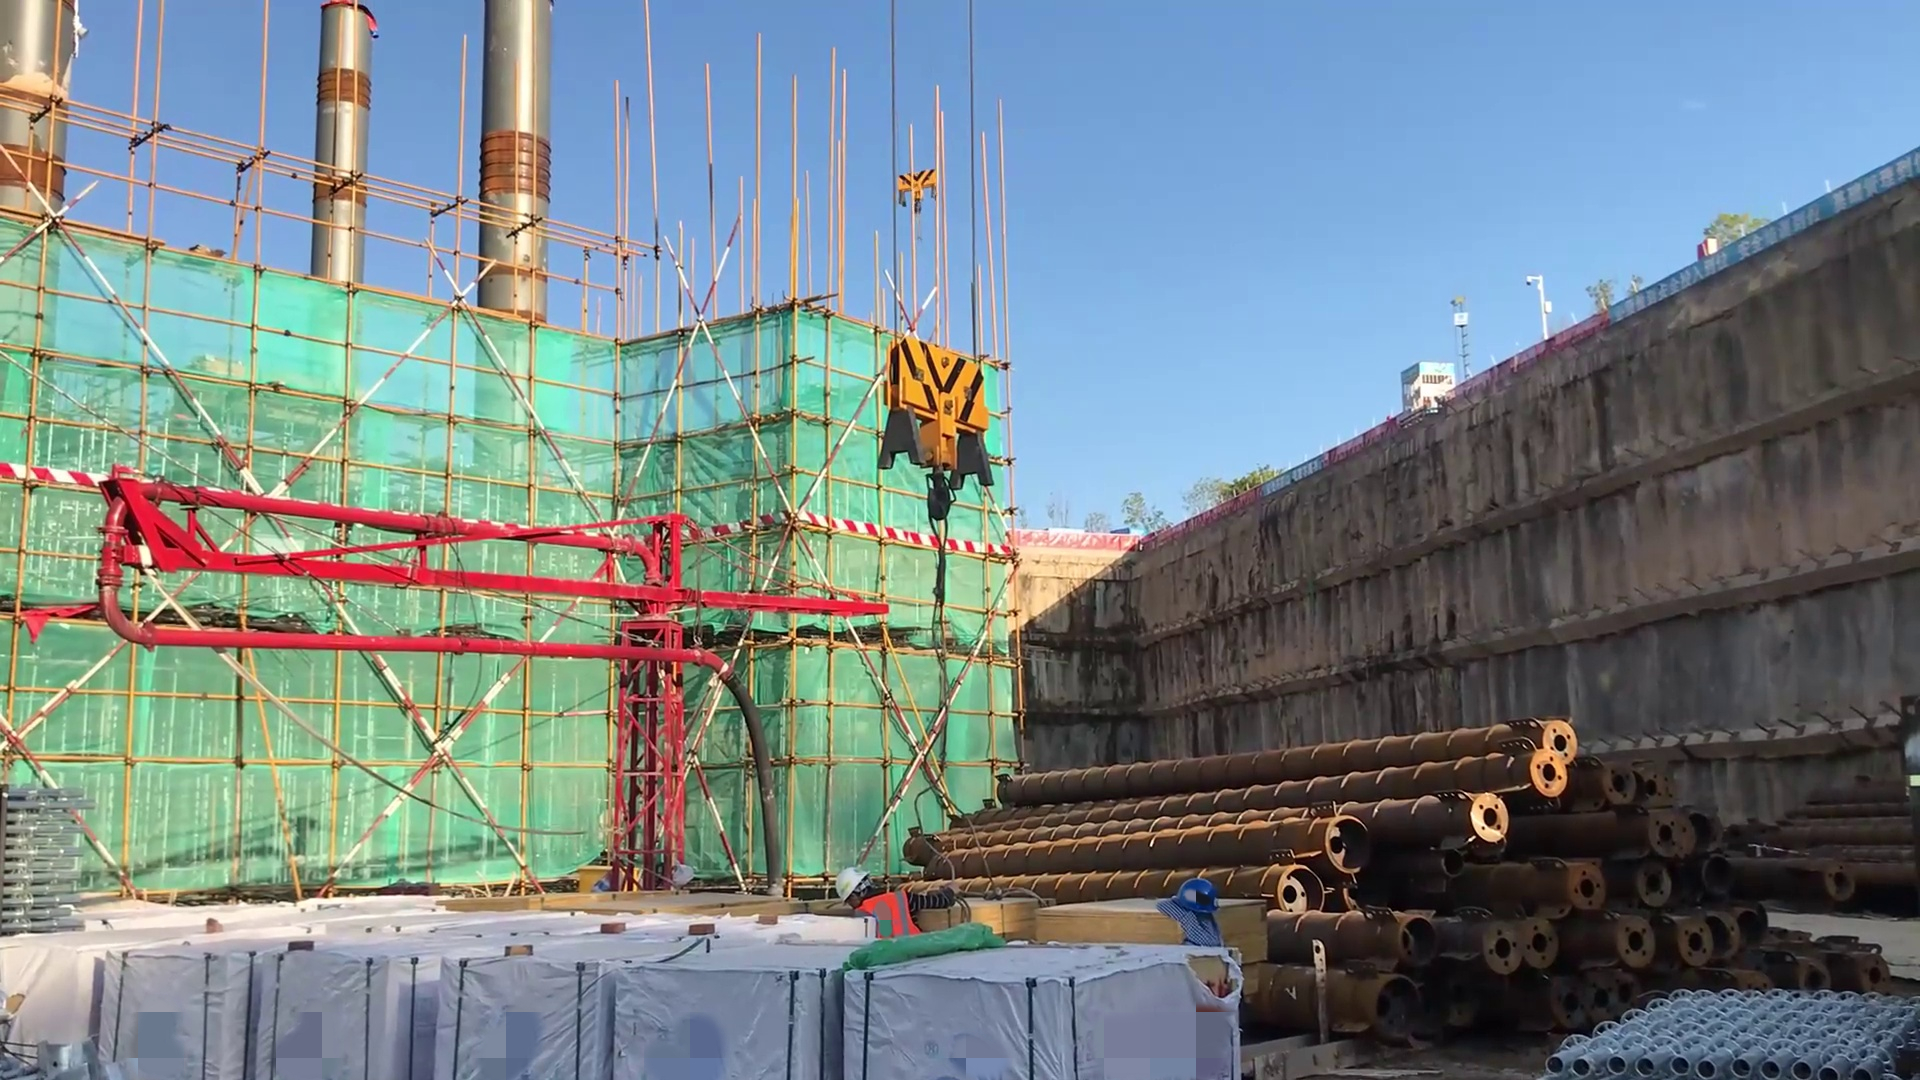board: (1040, 902, 1272, 965), (958, 893, 1048, 945)
ebox: (575, 855, 631, 907)
helmet: (1159, 873, 1237, 926), (833, 863, 881, 918)
hook: (879, 320, 1025, 598), (892, 155, 945, 217)
person: (1160, 871, 1274, 1080), (807, 861, 980, 953)
scaffold: (1556, 978, 1920, 1076), (1, 767, 118, 930)
slogan: (1598, 145, 1920, 328), (1256, 455, 1336, 505)
vest: (839, 889, 934, 939)
